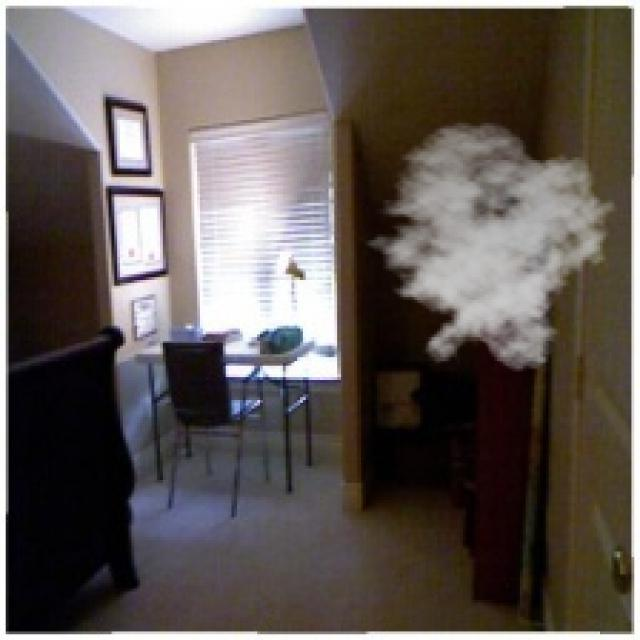smoke: (352, 120, 617, 371)
